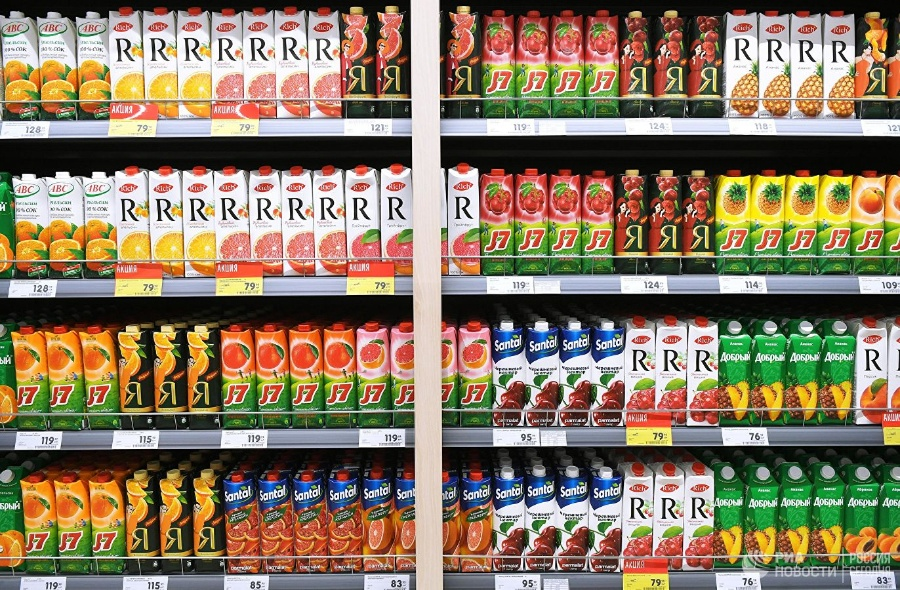juice: (211, 164, 261, 283), (331, 3, 381, 121), (237, 1, 284, 124), (43, 323, 95, 434), (277, 160, 323, 285), (135, 7, 184, 124), (49, 471, 101, 580), (203, 5, 251, 123), (577, 9, 624, 126), (145, 164, 190, 286), (508, 9, 556, 123), (440, 4, 486, 122), (103, 7, 151, 120), (171, 6, 217, 123), (545, 8, 591, 125), (34, 10, 81, 123), (70, 8, 116, 123), (272, 4, 316, 124), (177, 164, 220, 286), (76, 324, 124, 432), (214, 324, 262, 432), (253, 472, 302, 577), (650, 7, 693, 126), (181, 326, 229, 432), (81, 471, 129, 577), (785, 9, 830, 122), (818, 315, 863, 428), (312, 161, 353, 285), (343, 161, 385, 282), (476, 163, 518, 284), (149, 324, 195, 434), (784, 316, 828, 431), (18, 471, 64, 581), (9, 324, 54, 436), (318, 320, 363, 432), (616, 7, 659, 124), (248, 322, 295, 429), (46, 171, 90, 285), (285, 473, 333, 577), (119, 470, 164, 580), (284, 323, 329, 432), (548, 466, 593, 575), (480, 7, 523, 121), (643, 167, 686, 281), (652, 315, 695, 429), (114, 323, 158, 434), (153, 470, 199, 576), (307, 7, 349, 123), (754, 7, 796, 123), (245, 165, 287, 281), (849, 166, 891, 282), (444, 163, 485, 281), (1, 12, 44, 124), (80, 167, 121, 284), (357, 469, 401, 578), (371, 3, 412, 119), (819, 7, 860, 123), (219, 469, 264, 574), (684, 314, 724, 432), (851, 9, 892, 124), (585, 468, 628, 577), (750, 318, 791, 432), (714, 167, 756, 278), (612, 165, 652, 281), (814, 167, 854, 283), (489, 468, 531, 576), (618, 461, 657, 577), (652, 461, 691, 577), (723, 6, 761, 125), (777, 463, 817, 576), (487, 319, 528, 429), (556, 320, 597, 430), (189, 469, 231, 576), (512, 164, 551, 279), (714, 319, 754, 431), (11, 172, 50, 286), (581, 169, 620, 283), (708, 464, 749, 572), (547, 167, 586, 279), (354, 318, 393, 430), (524, 320, 564, 429), (325, 471, 366, 577), (750, 167, 788, 281), (621, 316, 660, 427), (689, 11, 727, 123), (458, 320, 496, 432), (680, 463, 718, 575), (376, 164, 413, 279), (590, 322, 629, 431), (114, 163, 151, 277), (519, 465, 558, 572), (684, 166, 720, 281), (788, 167, 823, 280), (742, 468, 779, 571), (807, 464, 842, 571), (845, 464, 878, 572)
